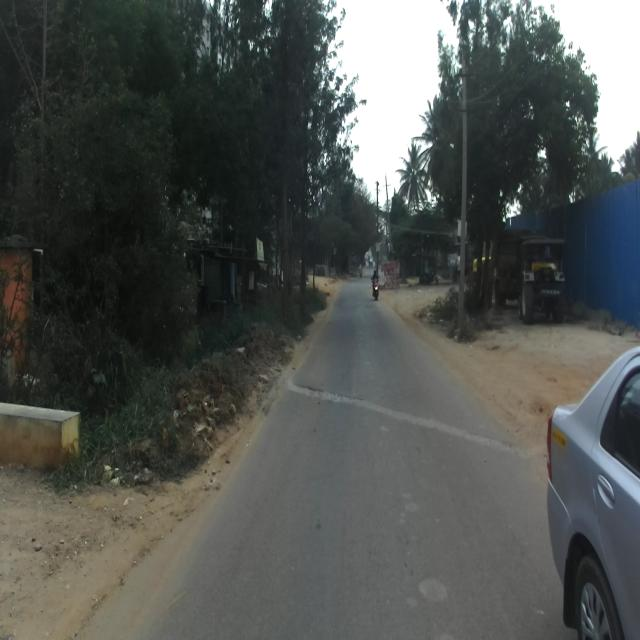car ahead at: (543, 342, 640, 640)
